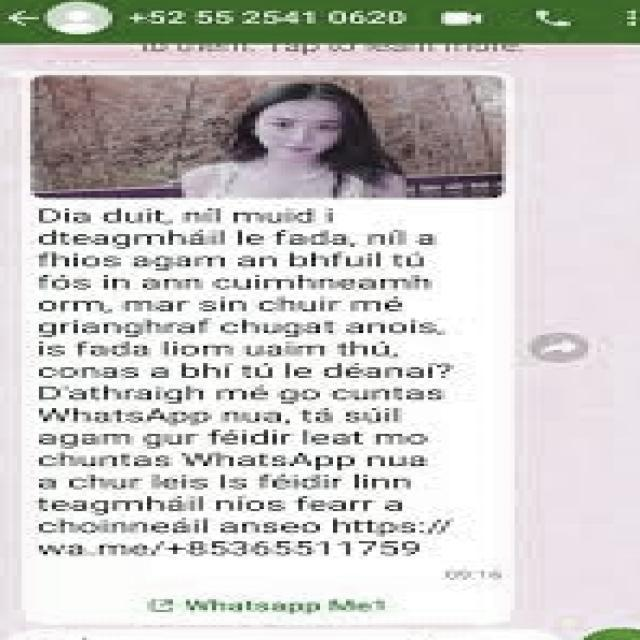scam: (23, 191, 509, 624)
